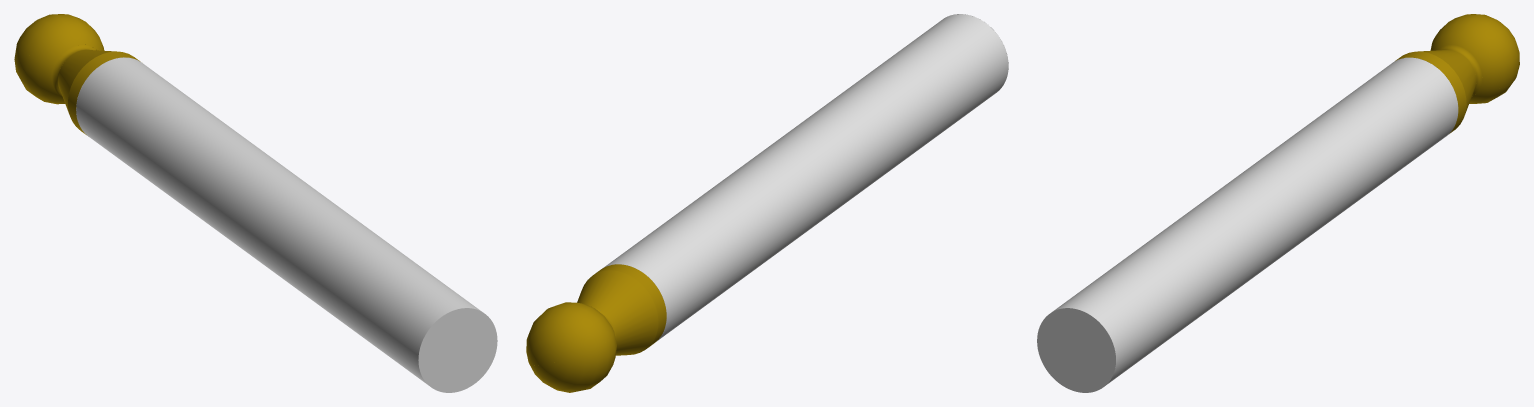
3 views of the same model, side by side, from view 1: azimuth 30°, elevation 25°; view 2: azimuth 150°, elevation 25°; view 3: azimuth 330°, elevation 25° (orthographic).
Visible parts, largest first — view 1: L3.IGS (×2); view 2: L3.IGS (×2); view 3: L3.IGS (×2).
Part boxes in pixels (bbox=[...]): L3.IGS (×2): bbox=[14, 14, 497, 392]; L3.IGS (×2): bbox=[526, 14, 1008, 392]; L3.IGS (×2): bbox=[1037, 14, 1519, 392].
Bounding box in the file's own units: 0.024 × 0.024 × 0.2213.
